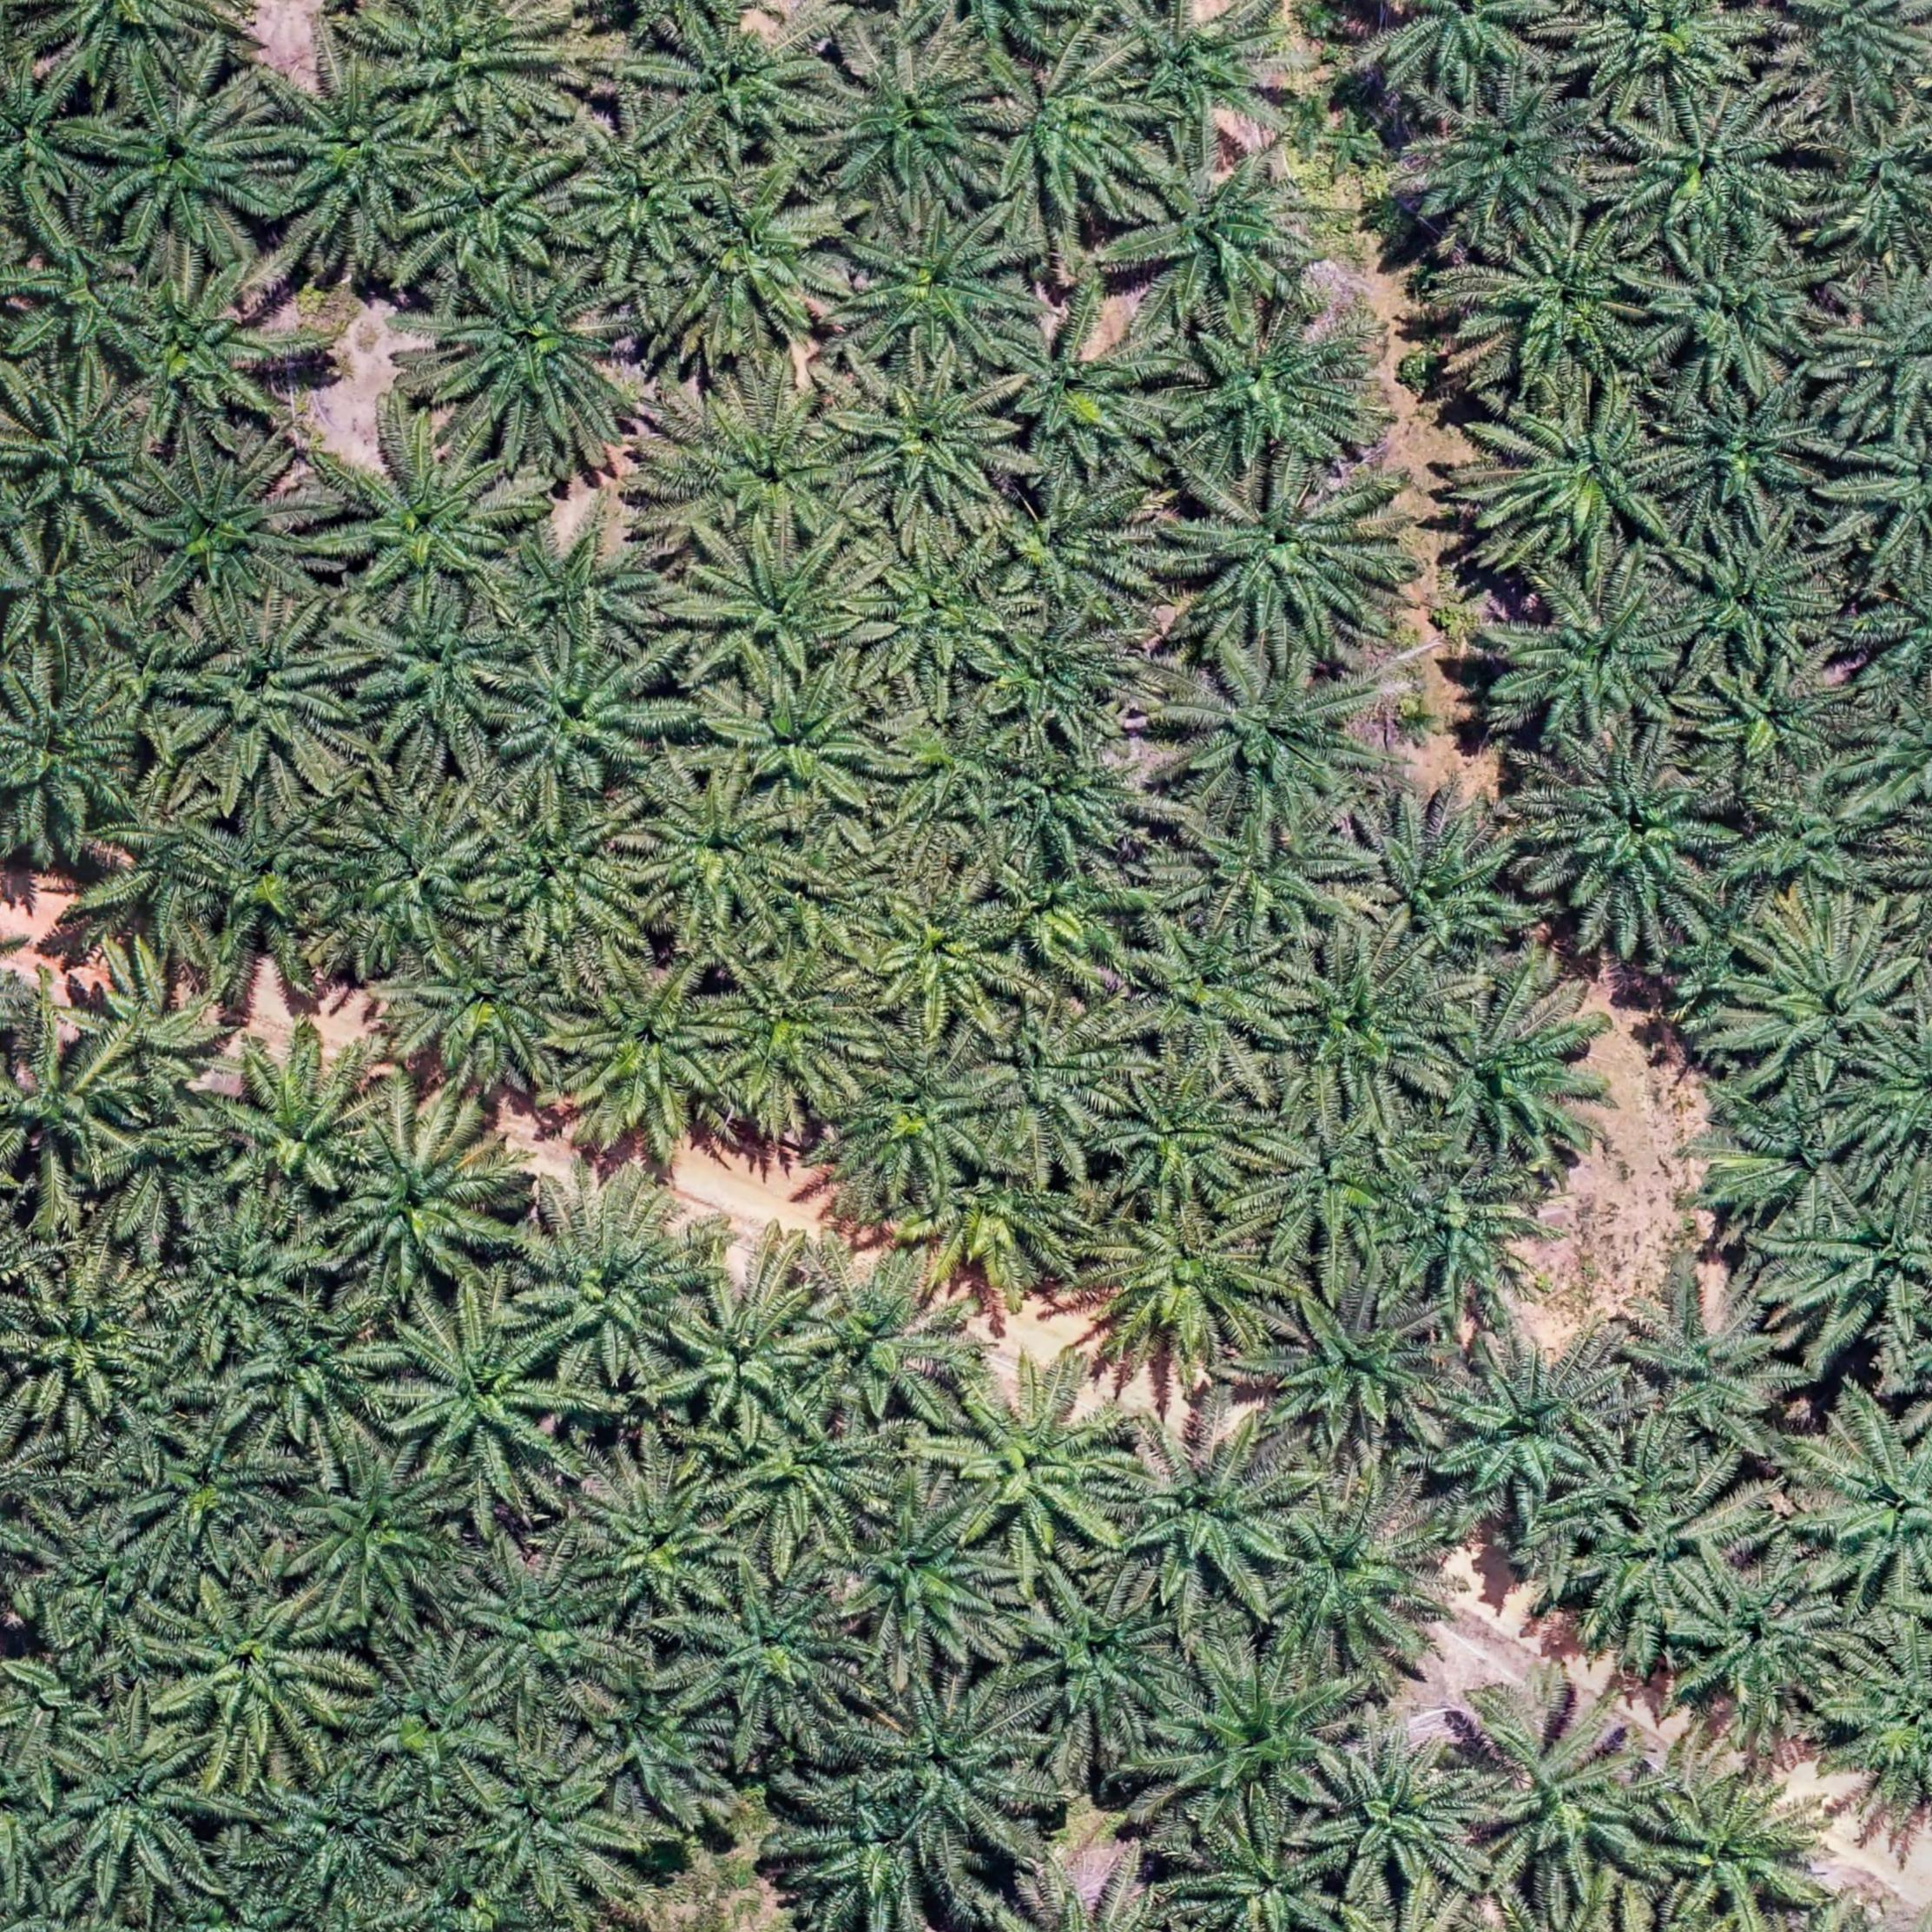palmtree: (1522, 732, 1739, 939), (1171, 462, 1401, 655), (1467, 1690, 1672, 1898), (1477, 386, 1693, 573), (941, 1366, 1145, 1562), (1171, 648, 1389, 830), (326, 425, 529, 616), (433, 262, 639, 451), (648, 379, 863, 554), (1465, 211, 1668, 396), (329, 1100, 524, 1293), (518, 1187, 711, 1382), (258, 55, 449, 248), (554, 957, 745, 1146), (1109, 1419, 1304, 1605), (1341, 793, 1537, 977), (1116, 145, 1318, 324), (391, 1302, 580, 1491), (1495, 571, 1697, 748), (94, 69, 283, 255), (1166, 1647, 1364, 1824), (665, 170, 853, 356), (975, 39, 1164, 223), (1265, 945, 1461, 1122), (182, 602, 368, 787), (315, 789, 506, 970), (810, 35, 1005, 212), (1431, 1334, 1628, 1509), (126, 446, 324, 619), (1086, 1201, 1284, 1371), (115, 260, 299, 442), (1267, 1499, 1456, 1674), (1614, 96, 1813, 260), (1619, 1274, 1799, 1456), (858, 1677, 1044, 1854), (639, 9, 837, 172), (382, 929, 580, 1092), (839, 1486, 1019, 1665), (285, 1442, 467, 1619), (1730, 924, 1914, 1099), (1562, 1484, 1755, 1651), (985, 299, 1171, 471), (469, 786, 656, 955), (1417, 994, 1606, 1162), (678, 533, 874, 694), (1005, 1571, 1187, 1744), (1267, 1288, 1453, 1456), (830, 1028, 1014, 1196), (1414, 78, 1601, 242), (1640, 235, 1828, 400), (1178, 315, 1368, 478), (1667, 1553, 1845, 1725), (1660, 511, 1844, 678), (844, 211, 1030, 375), (793, 1260, 971, 1430), (1642, 1769, 1831, 1928), (1311, 1737, 1493, 1902), (488, 642, 674, 803), (1177, 800, 1373, 952), (165, 1585, 343, 1752), (462, 1741, 639, 1907), (207, 1042, 386, 1207), (1111, 2, 1295, 161), (702, 950, 876, 1118), (352, 589, 527, 755), (686, 1562, 863, 1727), (373, 0, 573, 145), (711, 669, 897, 824), (1378, 1148, 1555, 1311), (846, 363, 1026, 522), (1122, 913, 1299, 1074), (635, 773, 810, 934), (1654, 375, 1836, 527), (53, 1723, 218, 1891), (987, 472, 1166, 626), (665, 1274, 833, 1437), (228, 1295, 402, 1453), (494, 511, 674, 662), (720, 1403, 897, 1555), (159, 1200, 327, 1359), (904, 1150, 1092, 1292), (573, 1465, 740, 1624), (122, 1419, 295, 1571), (409, 142, 586, 290), (356, 1645, 515, 1810), (789, 1780, 966, 1927), (7, 375, 166, 538), (12, 1265, 172, 1428), (994, 732, 1171, 878), (860, 540, 1028, 692), (1782, 1191, 1932, 1361), (71, 959, 234, 1115), (1732, 768, 1905, 913), (1805, 1408, 1932, 1605), (14, 216, 163, 380), (1562, 0, 1773, 115), (563, 129, 724, 280), (577, 1654, 732, 1808), (978, 1010, 1143, 1155), (1254, 1111, 1412, 1261), (863, 878, 1024, 1024), (1104, 1063, 1267, 1208), (0, 672, 143, 837), (464, 1552, 621, 1700), (1693, 658, 1868, 789), (264, 1753, 414, 1904), (978, 609, 1145, 743), (191, 803, 345, 948), (1803, 106, 1932, 274), (1716, 1092, 1874, 1228), (1826, 1626, 1932, 1821), (41, 1511, 186, 1652), (989, 847, 1143, 978), (0, 1035, 138, 1180), (1371, 0, 1566, 103), (27, 0, 232, 97), (0, 57, 111, 232), (1180, 1817, 1348, 1932), (1826, 264, 1932, 439), (0, 529, 138, 662), (1775, 0, 1932, 115), (770, 814, 893, 957), (883, 704, 1030, 823), (76, 842, 232, 954), (1844, 419, 1932, 582), (1849, 1017, 1932, 1166)
